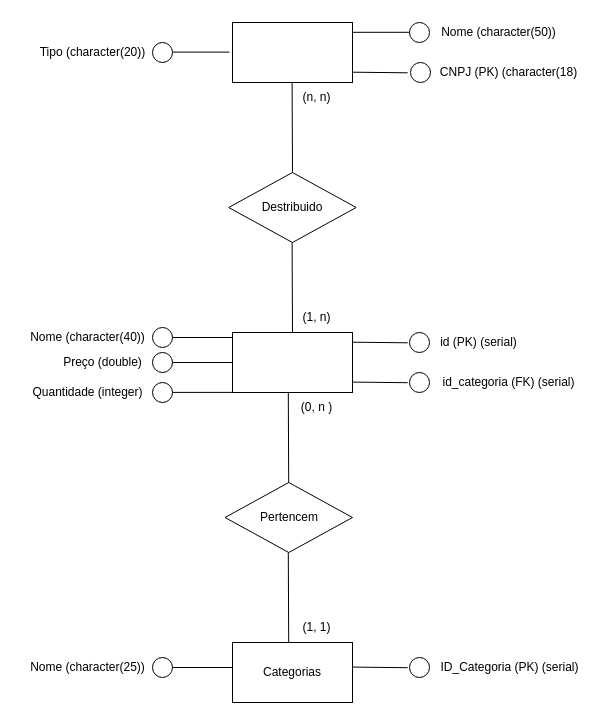
The diagram is 606 pixels wide and 720 high, and some of its shapes have lost their labels. The shapes that lost their labels are listed below. From the top down, each one's centre as x and y in pixels, then its label:
At point (292, 52): "Empresa".
At point (292, 362): "Produto".
